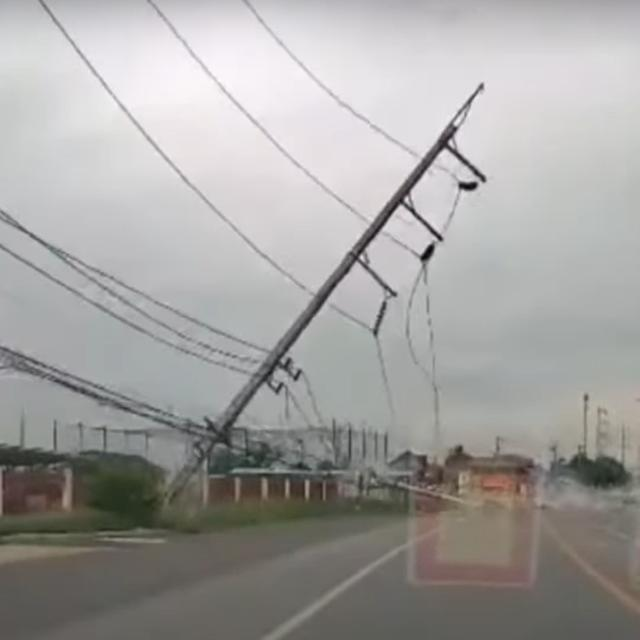Inclined Pole: (151, 74, 493, 507)
